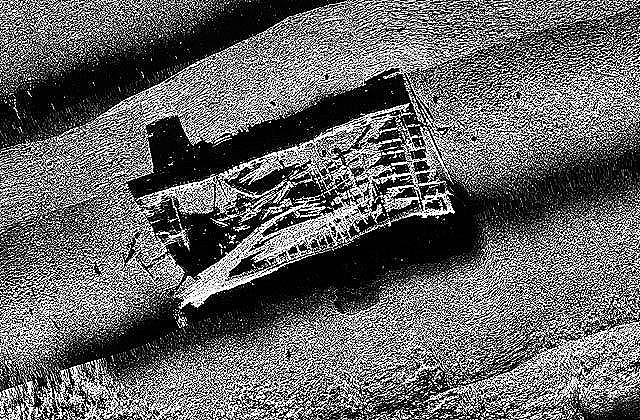ship: (130, 100, 458, 309)
